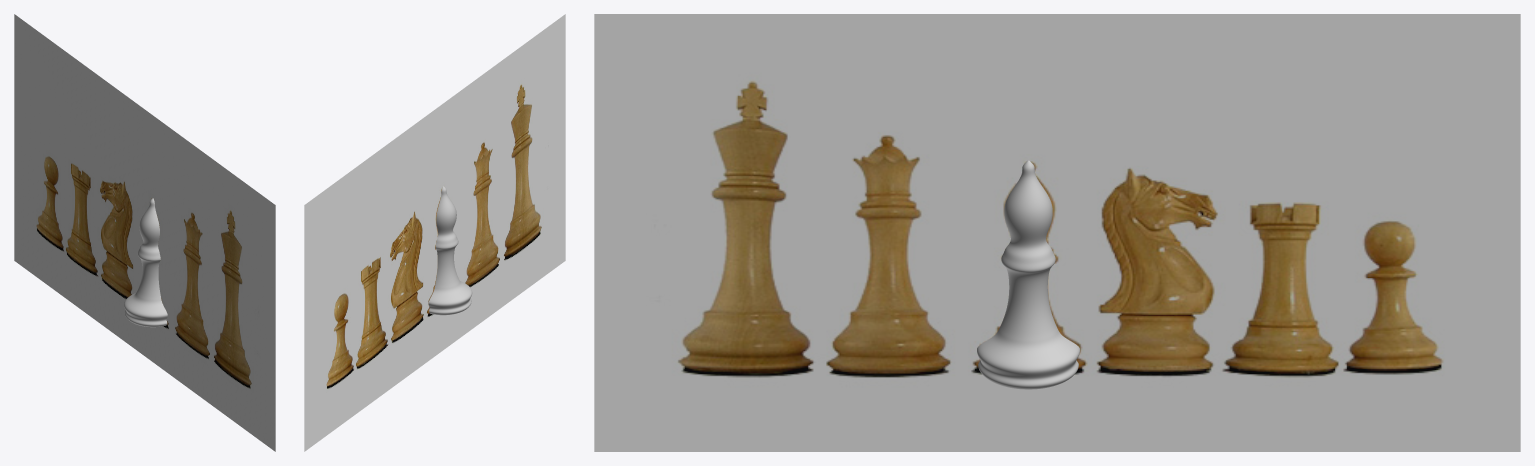
The model's file is bishop.obj.
The picture shows the model from 3 angles, left to right: view 1: azimuth 30°, elevation 25°; view 2: azimuth 150°, elevation 25°; view 3: azimuth 270°, elevation 25°; orthographic projection. The views are drawn at different scales.
Parts seen in each view (by area): view 1: staunton-chess-set-1, Bishop_Plane.003; view 2: staunton-chess-set-1, Bishop_Plane.003; view 3: staunton-chess-set-1, Bishop_Plane.003.
Part boxes in pixels (<box>): staunton-chess-set-1: <box>14,14,275,451</box>; Bishop_Plane.003: <box>124,198,167,327</box>; staunton-chess-set-1: <box>304,14,565,451</box>; Bishop_Plane.003: <box>428,186,472,315</box>; staunton-chess-set-1: <box>594,14,1520,451</box>; Bishop_Plane.003: <box>977,160,1079,389</box>.
Bounding box in the file's own units: 0.2138 × 1 × 1.92.
Materials: 2 (1 with a texture image).
